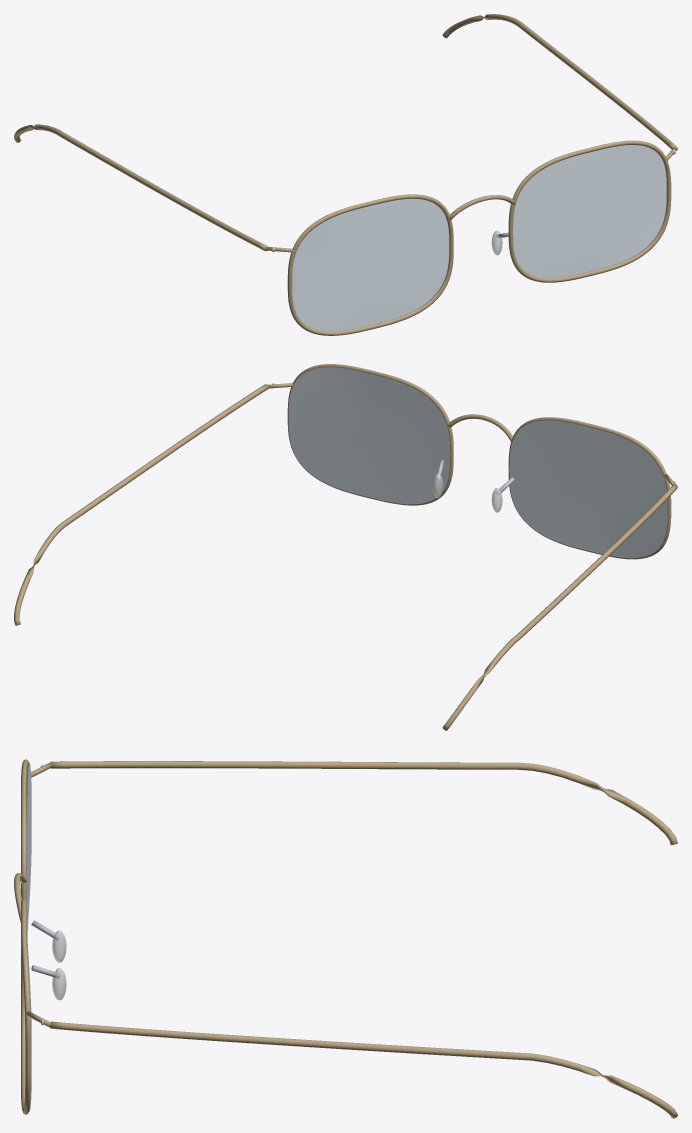
File: tim-45-v1.glb
The picture shows the model from 3 angles, top to bottom: view 1: azimuth 30°, elevation 25°; view 2: azimuth 150°, elevation 25°; view 3: azimuth 270°, elevation 25°; orthographic projection. The views are drawn at different scales.
Parts seen in each view (by area): view 1: lens_right, lens_left, rim_right, rim_left, temple_right, temple_left; view 2: lens_left, lens_right, temple_left, temple_right, rim_left, rim_right; view 3: temple_right, temple_left, rim_left, rim_right, lens_right.
Part boxes in pixels (<box>): lens_right: <box>292,198,449,331</box>; lens_left: <box>513,145,666,278</box>; rim_right: <box>287,194,453,335</box>; rim_left: <box>508,140,671,282</box>; temple_right: <box>14,124,268,251</box>; temple_left: <box>442,14,677,150</box>; lens_left: <box>288,367,450,504</box>; lens_right: <box>509,420,667,558</box>; temple_left: <box>14,384,268,625</box>; temple_right: <box>442,484,677,730</box>; rim_left: <box>287,364,453,505</box>; rim_right: <box>508,417,671,559</box>; temple_right: <box>50,761,677,845</box>; temple_left: <box>50,1021,677,1118</box>; rim_left: <box>21,898,30,1114</box>; rim_right: <box>21,759,28,935</box>; lens_right: <box>26,762,31,934</box>.
Bounding box in the file's own units: 0.1557 × 0.0414 × 0.149.
